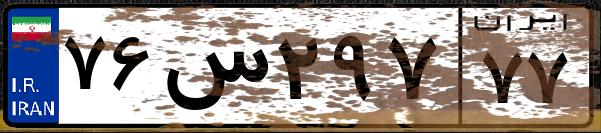2: (270, 28, 330, 110)
6: (110, 28, 158, 98)
7: (385, 28, 445, 110), (57, 26, 110, 100), (475, 38, 525, 113), (525, 38, 570, 115)
9: (330, 28, 385, 110)
س: (158, 20, 270, 120)
